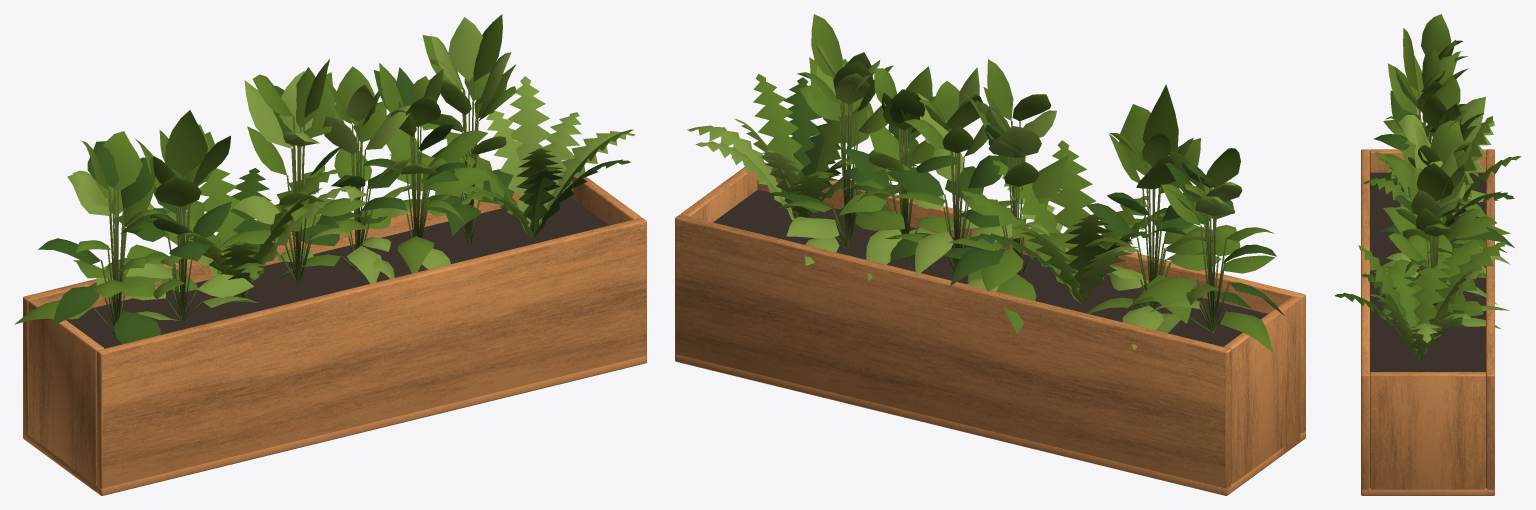
File: greenery.hanging-planter-divider.glb
The picture shows the model from 3 angles, left to right: view 1: azimuth 30°, elevation 25°; view 2: azimuth 150°, elevation 25°; view 3: azimuth 270°, elevation 25°; orthographic projection. The views are drawn at different scales.
Parts seen in each view (by area): view 1: greenery.hanging-planter-divider.001; view 2: greenery.hanging-planter-divider.001; view 3: greenery.hanging-planter-divider.001.
Part boxes in pixels (x1,y1,x2,y2): greenery.hanging-planter-divider.001: (14, 14, 646, 495); greenery.hanging-planter-divider.001: (675, 14, 1305, 495); greenery.hanging-planter-divider.001: (1334, 14, 1521, 495).
Size of the model in its own units: 1.32 by 0.72 by 0.42.
Materials: 6 (1 with a texture image).
